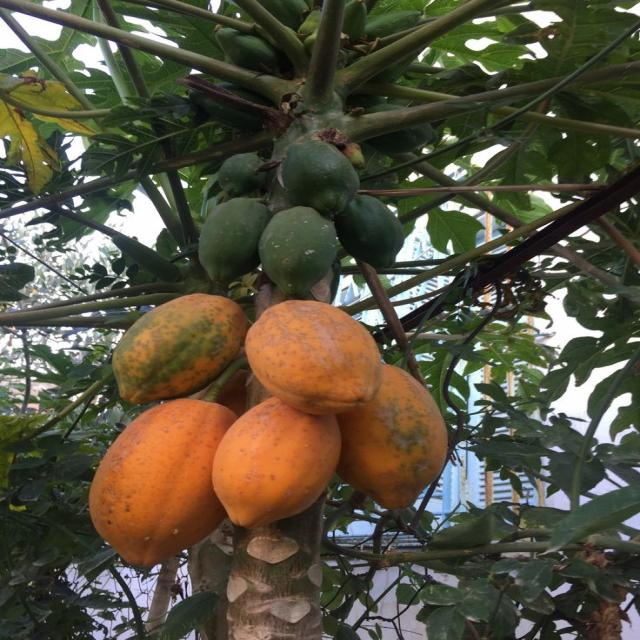Pepaya rippen: (79, 387, 233, 581), (341, 361, 462, 511), (84, 291, 247, 402), (242, 292, 382, 410), (216, 401, 347, 519)
Pepaya unrippen: (253, 200, 340, 285), (186, 196, 267, 284), (280, 133, 354, 216), (344, 198, 404, 271)
